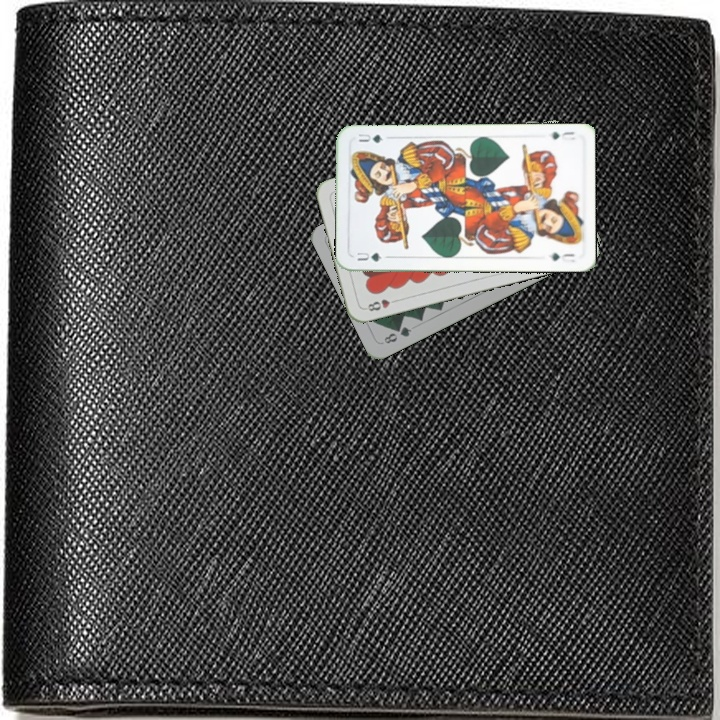G8: (380, 322, 414, 346)
GU: (353, 248, 384, 264), (547, 128, 578, 143)
H8: (361, 295, 401, 314)
